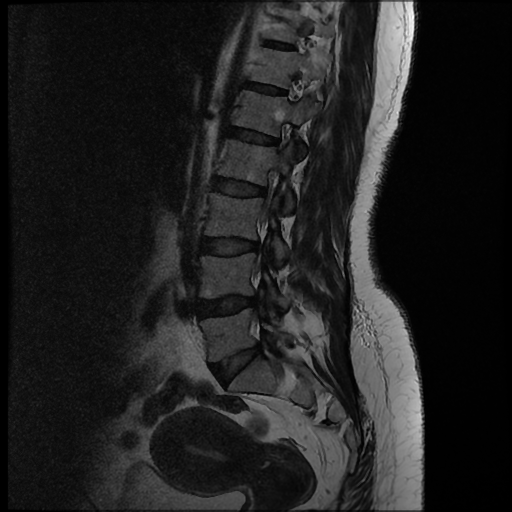RFS0: (263, 115, 303, 160)
